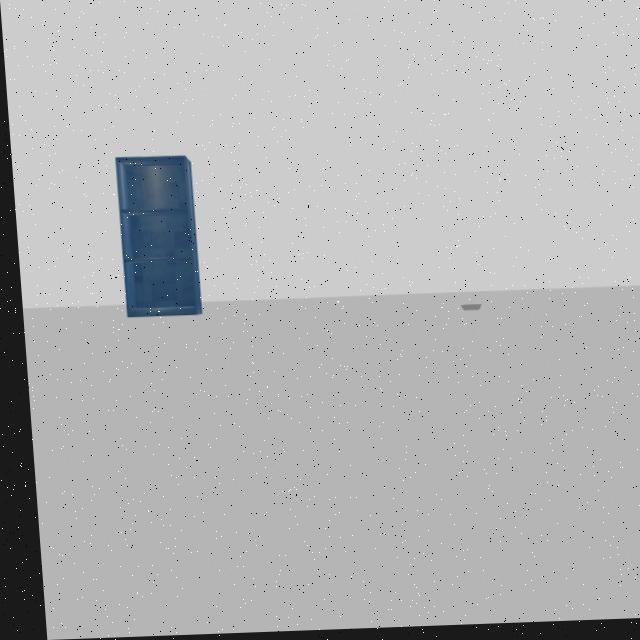bowl: (450, 300, 484, 323)
shelf: (105, 143, 209, 329)
